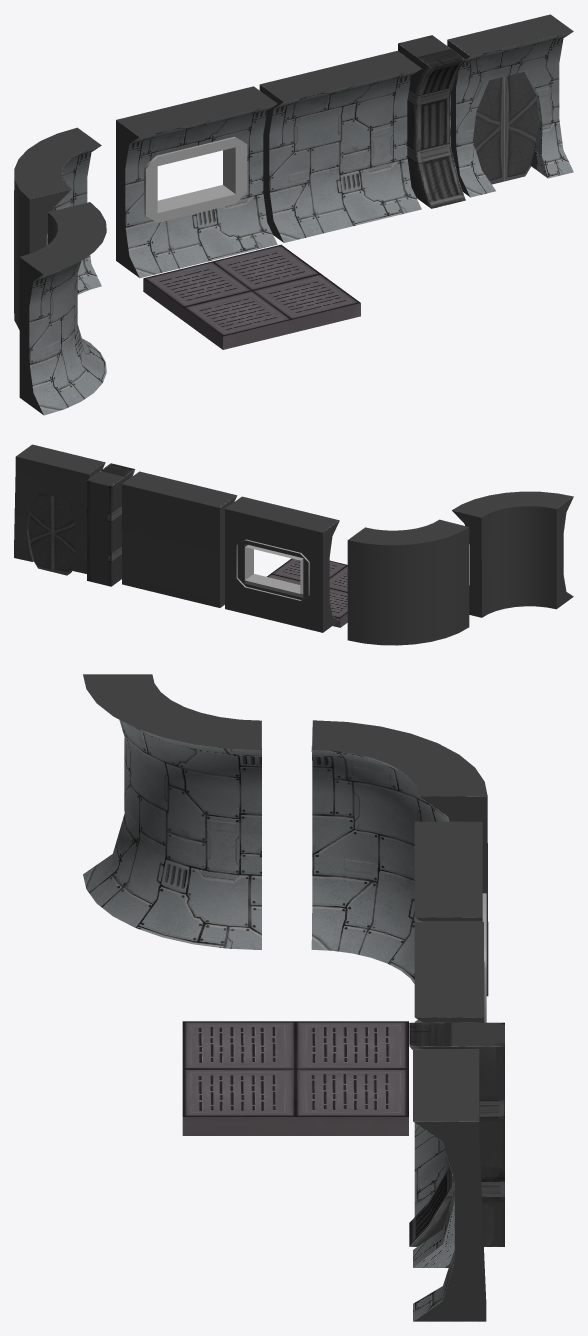
The model's file is bygg block 2.fbx.
The picture shows the model from 3 angles, top to bottom: view 1: azimuth 30°, elevation 25°; view 2: azimuth 150°, elevation 25°; view 3: azimuth 270°, elevation 25°; orthographic projection. The views are drawn at different scales.
Parts seen in each view (by area): view 1: wall, wall_window, floor, hörn_minus_45, door_entrens, hörn_45, pilar, pCube49, door_del_2, door_del_1; view 2: hörn_45, wall, hörn_minus_45, wall_window, door_entrens, pilar, floor, door_del_1, door_del_2, pCube49; view 3: hörn_minus_45, hörn_45, floor, door_entrens, wall, pilar, wall_window.
Part boxes in pixels (bbox=[...]): wall: bbox=[259, 51, 421, 242]; wall_window: bbox=[116, 86, 277, 278]; floor: bbox=[143, 244, 360, 349]; hörn_minus_45: bbox=[19, 202, 106, 415]; door_entrens: bbox=[447, 14, 573, 197]; hörn_45: bbox=[14, 127, 101, 329]; pilar: bbox=[398, 35, 465, 208]; pCube49: bbox=[144, 137, 247, 222]; door_del_2: bbox=[504, 72, 539, 181]; door_del_1: bbox=[473, 76, 504, 184]; hörn_45: bbox=[347, 519, 469, 645]; wall: bbox=[122, 471, 237, 607]; hörn_minus_45: bbox=[452, 491, 573, 617]; wall_window: bbox=[225, 496, 339, 632]; door_entrens: bbox=[14, 444, 105, 573]; pilar: bbox=[87, 463, 135, 586]; floor: bbox=[267, 558, 347, 627]; door_del_1: bbox=[52, 496, 76, 575]; door_del_2: bbox=[28, 493, 52, 571]; pCube49: bbox=[236, 539, 309, 600]; hörn_minus_45: bbox=[83, 674, 261, 950]; hörn_45: bbox=[311, 720, 488, 996]; floor: bbox=[182, 1021, 408, 1135]; door_entrens: bbox=[413, 1049, 486, 1321]; wall: bbox=[414, 921, 484, 1216]; pilar: bbox=[409, 1022, 504, 1246]; wall_window: bbox=[414, 821, 482, 1022].
Bounding box in the file's own units: 9.37 × 2.13 × 3.73.
